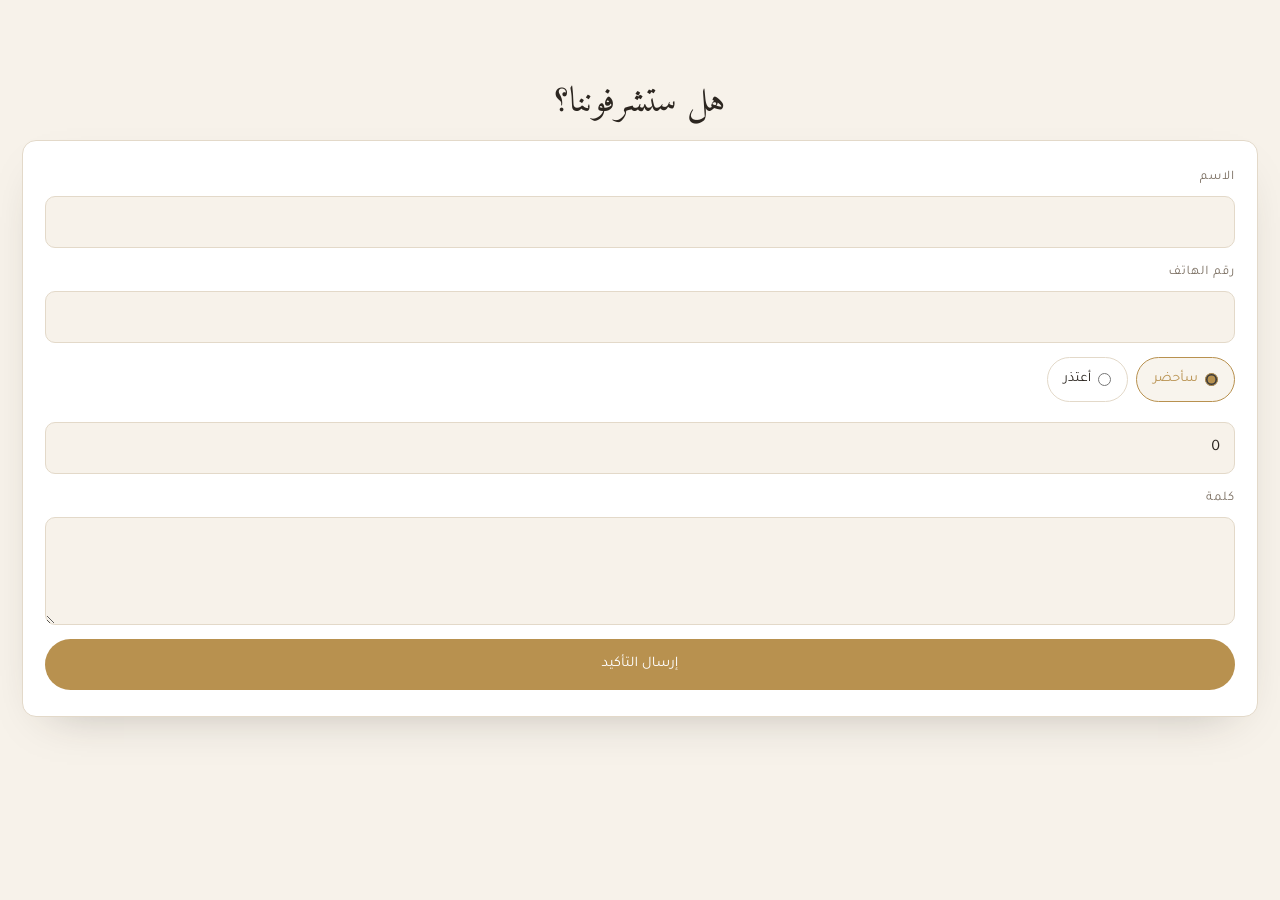
Test case: Rsvp › shows the server error and re-enables the form
Type "منى" into the field named "name".
click(640, 222); type("منى")  # box [45,196,1235,248]
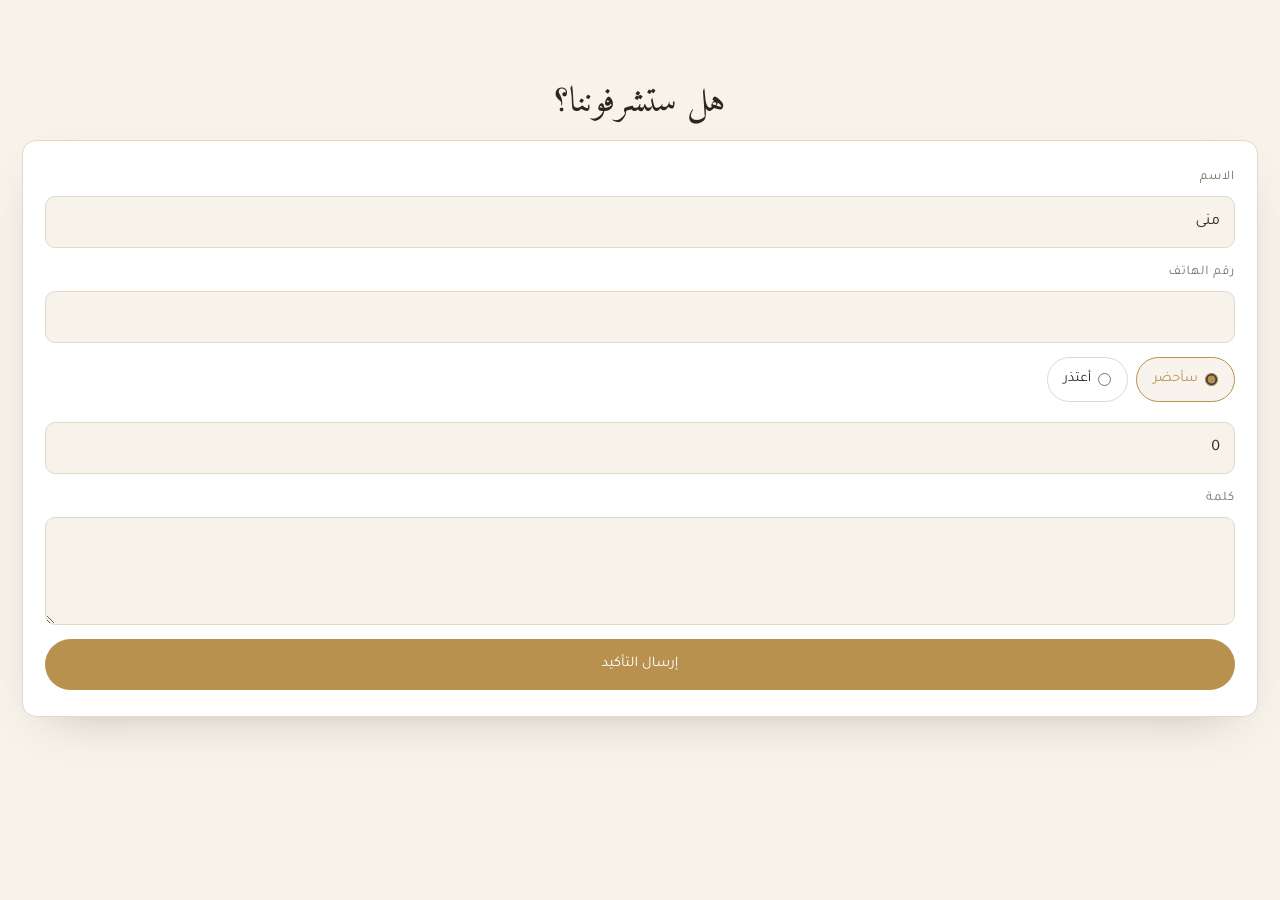
Submit the form, box [45,167,1235,690]
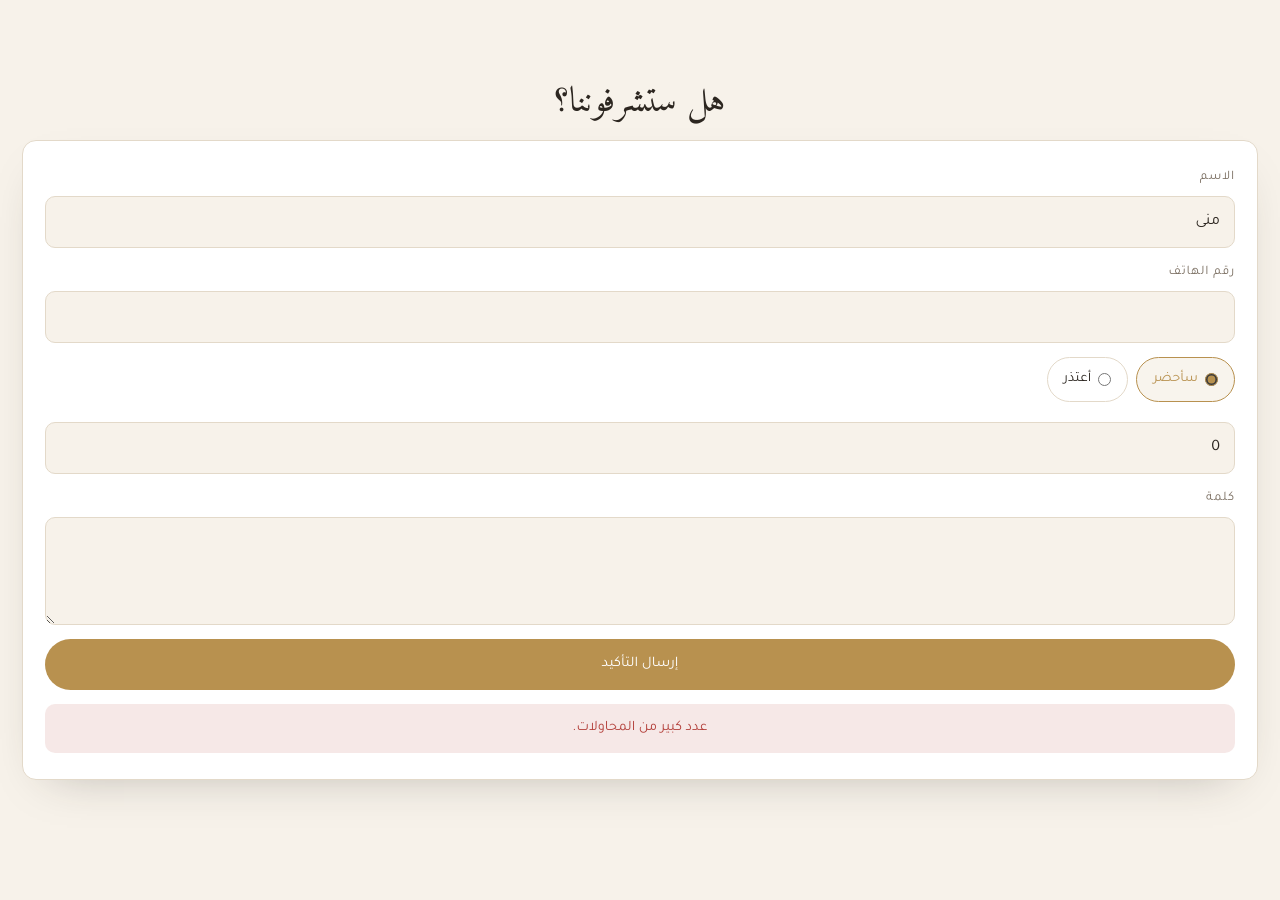
Expected: the button "إرسال التأكيد" is enabled, [45,638,1235,690]
Now the text "عدد كبير من المحاولات." is shown, box [45,704,1235,754]
